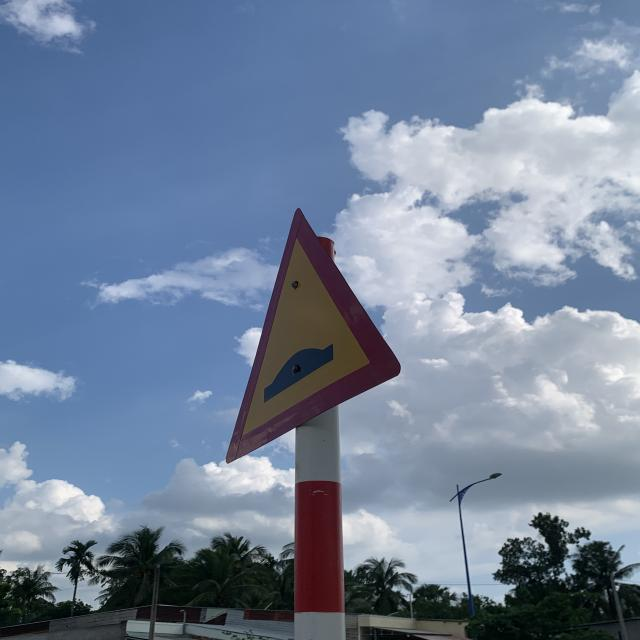Duong_Cong_Ben_Phai: (225, 206, 402, 470)
